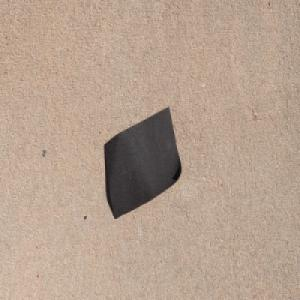PaintChip: (104, 105, 182, 221)
